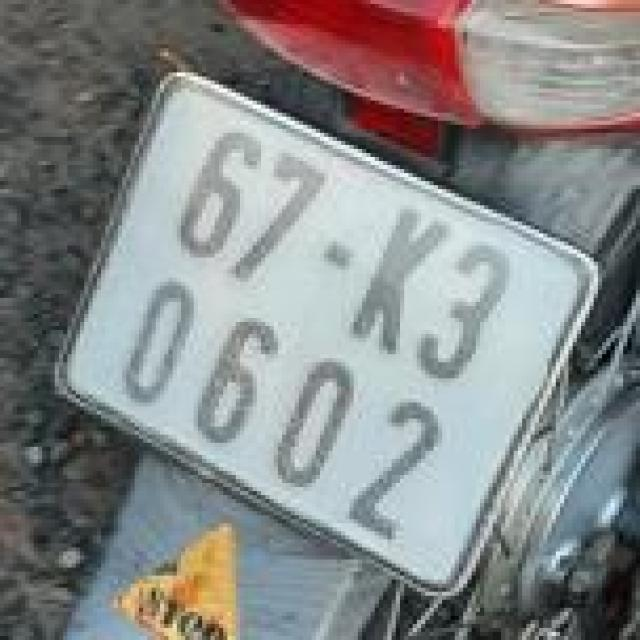0: (259, 344, 374, 509), (110, 263, 215, 426)
2: (331, 382, 465, 560)
3: (400, 227, 534, 401)
6: (180, 300, 297, 457), (161, 115, 280, 269)
7: (220, 135, 341, 302)
K: (335, 196, 465, 366)
